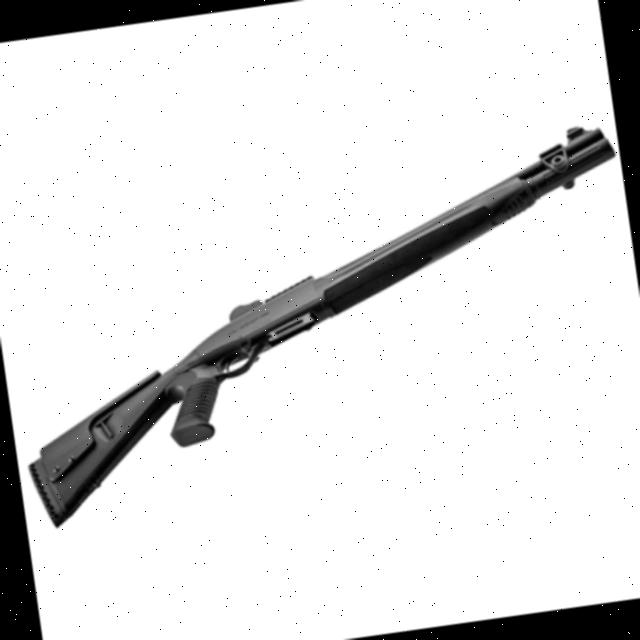Shotgun: (0, 108, 640, 604)
